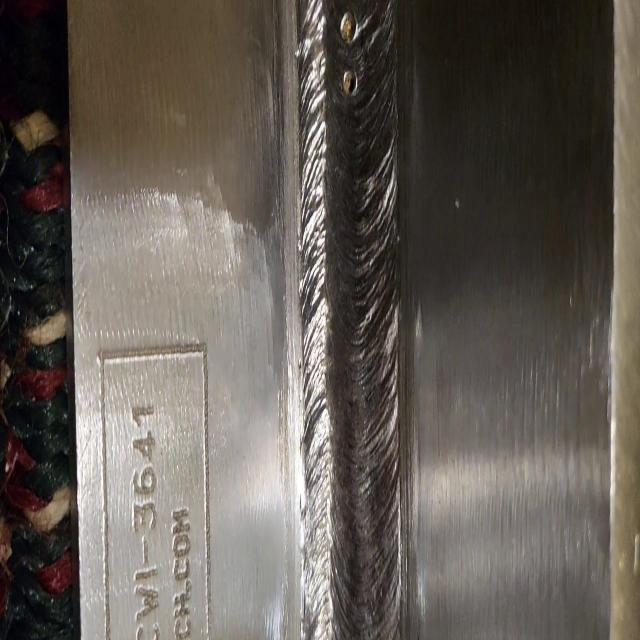Welding Line: (297, 2, 393, 640)
Workpiece: (71, 2, 631, 640)
porosity: (339, 11, 361, 98)
